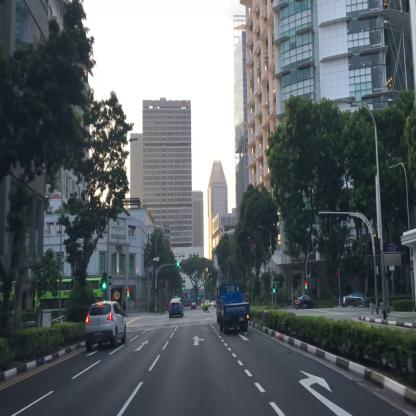green_traffic_light: (102, 273, 106, 289), (177, 262, 182, 266)
